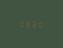eight: (24, 19, 29, 27)
two: (30, 19, 35, 28)
zero: (18, 19, 23, 27), (36, 20, 41, 28)
